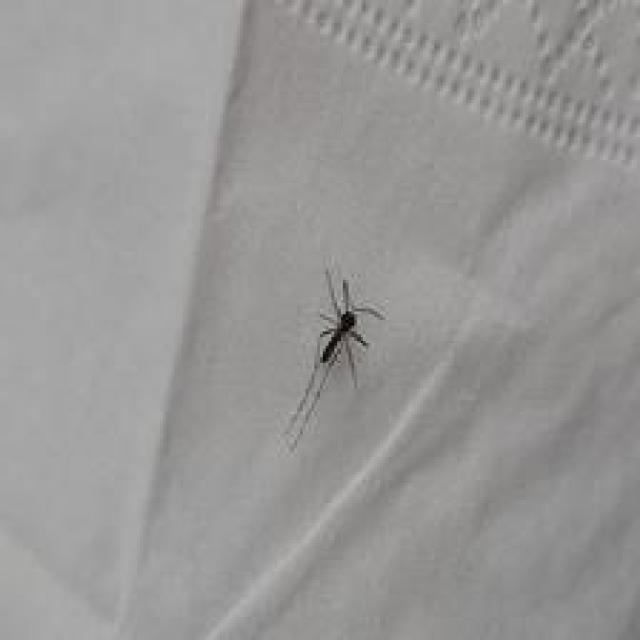Aedes albopictus: (283, 267, 386, 453)
